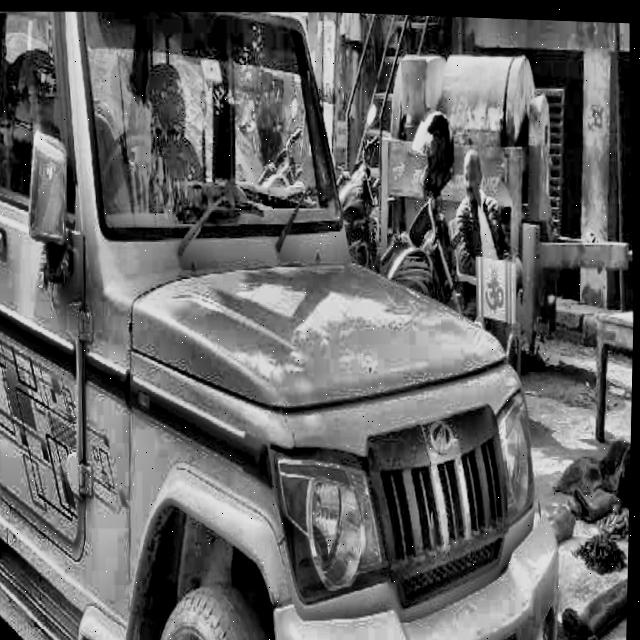light_vehicle: (0, 0, 571, 640)
